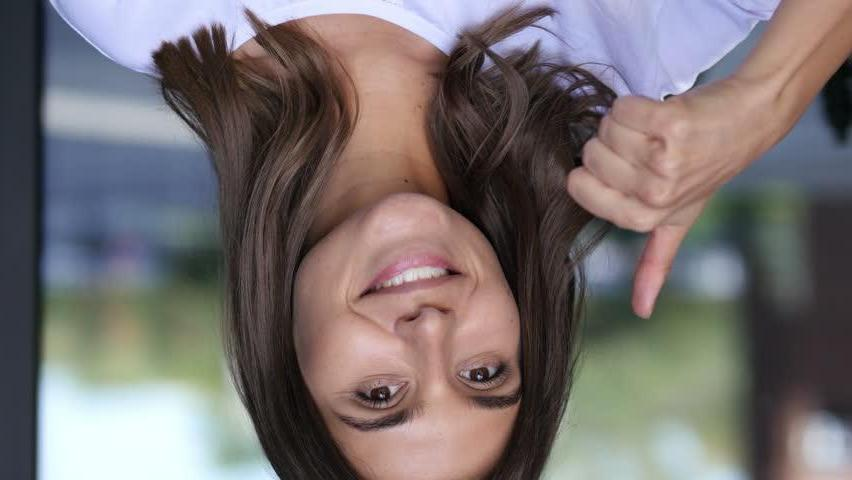thumbsdown: (564, 91, 695, 322)
